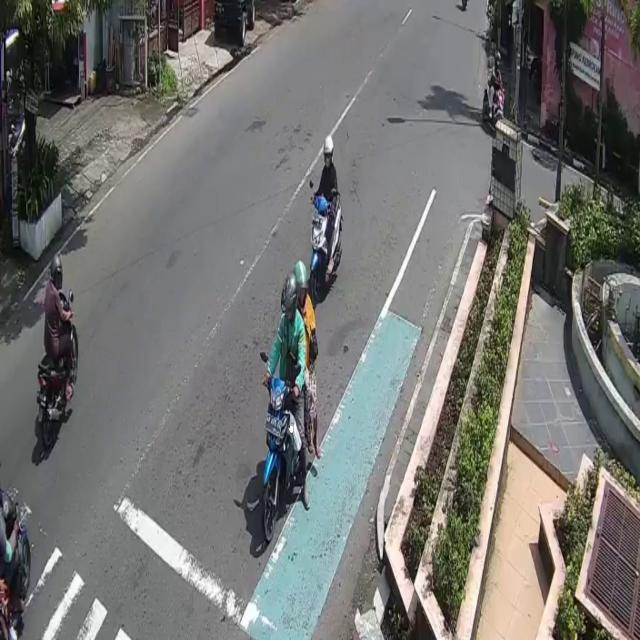motorbike: (37, 290, 80, 456), (265, 375, 304, 545), (1, 490, 32, 640), (310, 189, 344, 305), (484, 78, 504, 132)
